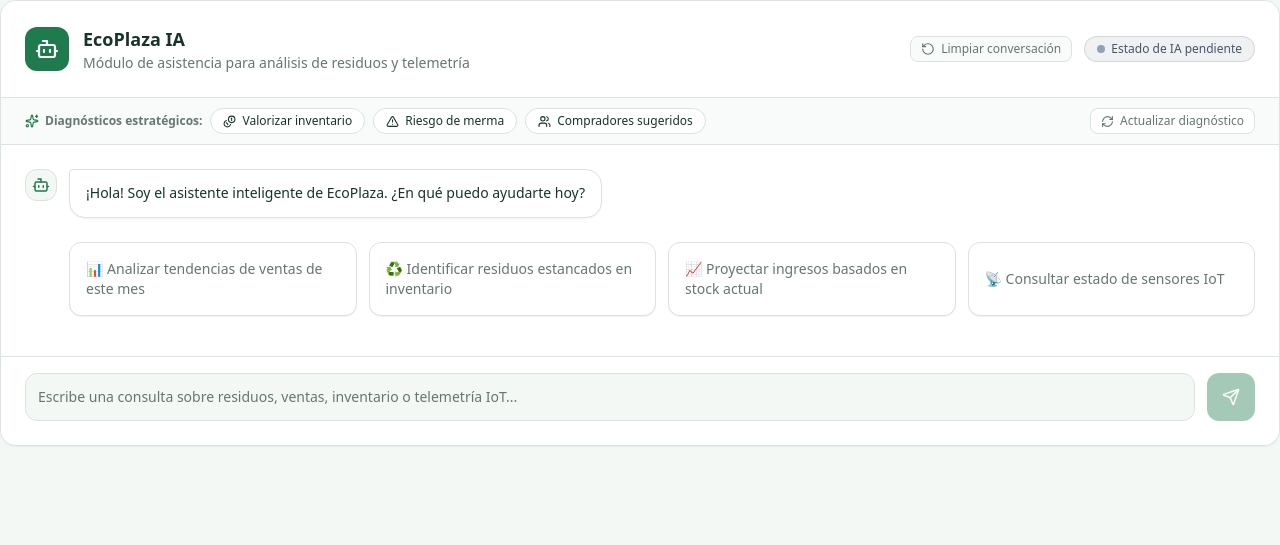
Test: AssistantPanel con Motor de Diagnósticos Estratégicos (Tarea 088) › h) limpia la conversación y restaura el saludo inicial al hacer clic en 'Limpiar conversación'
This screenshot has width=1280, height=545.
Replace the text in the field with "¿Hola?" at (610, 397), box [38, 374, 1182, 420]
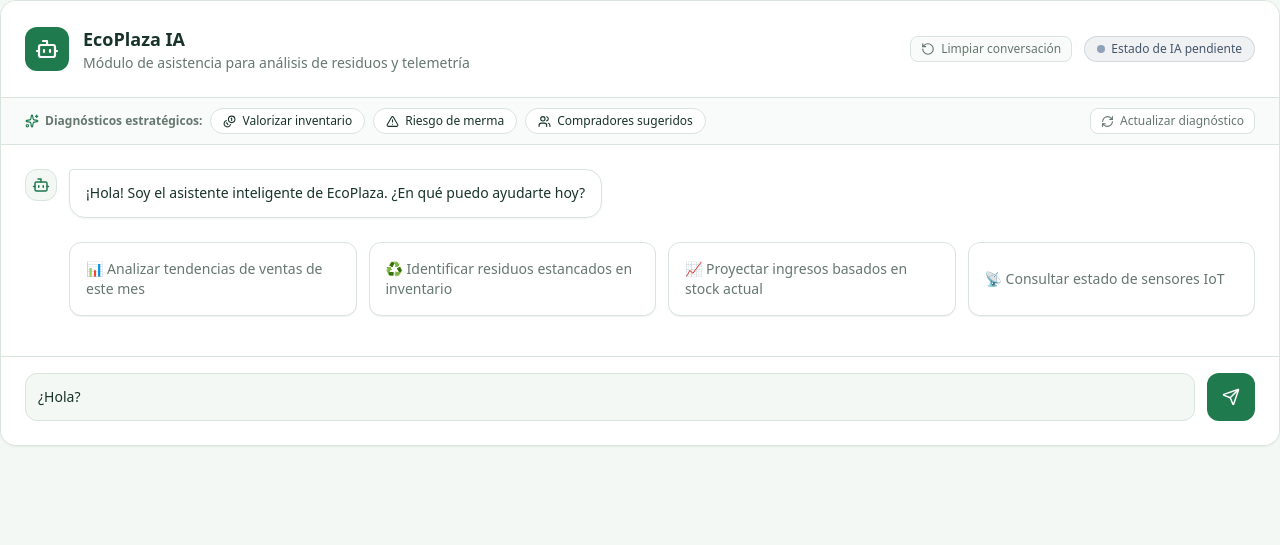
Click the button named "Enviar mensaje".
click(1231, 397)  # box [1207, 373, 1255, 421]
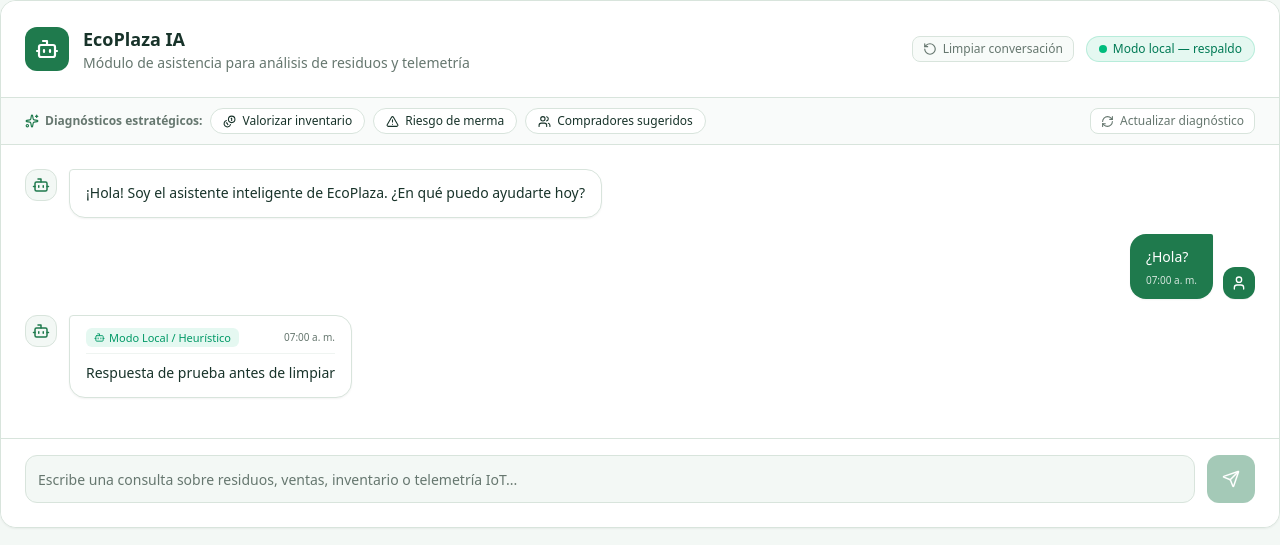
Result: the text "¿Hola?" is shown at [1146, 247, 1188, 266]
Result: the text "Respuesta de prueba antes de limpiar" is shown at [86, 362, 335, 385]
Click the button "Limpiar conversación".
click(993, 49)  # box [912, 36, 1074, 62]
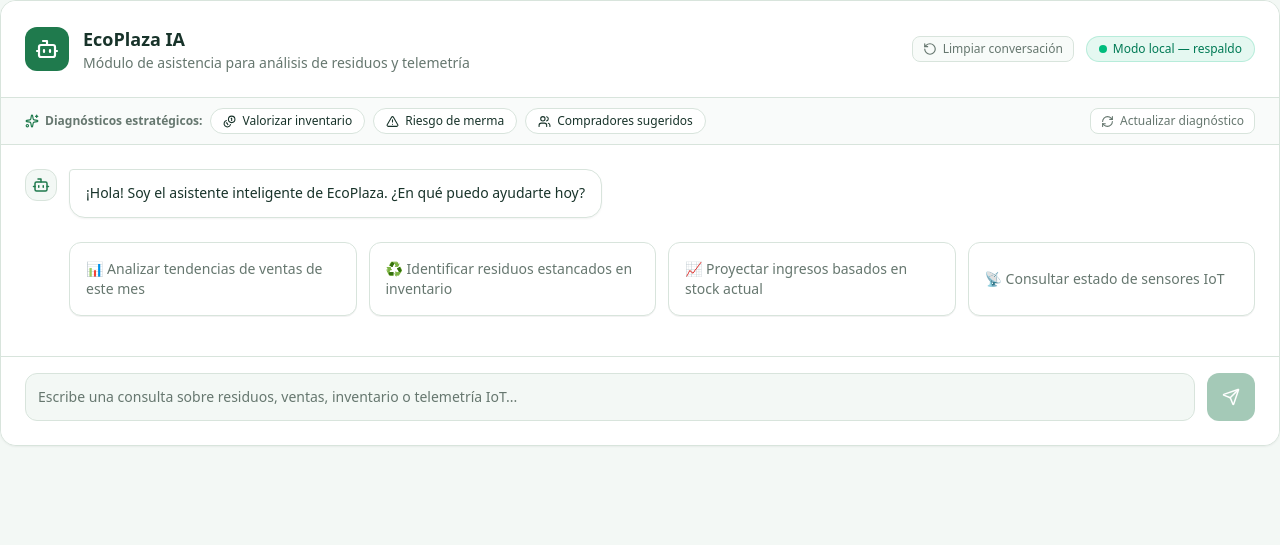
Expected: the text "¡Hola! Soy el asistente inteligente de EcoPlaza" is shown, [86, 183, 585, 202]
Result: the text "Respuesta de prueba antes de limpiar" is gone
Result: the text "¿Hola?" is gone
